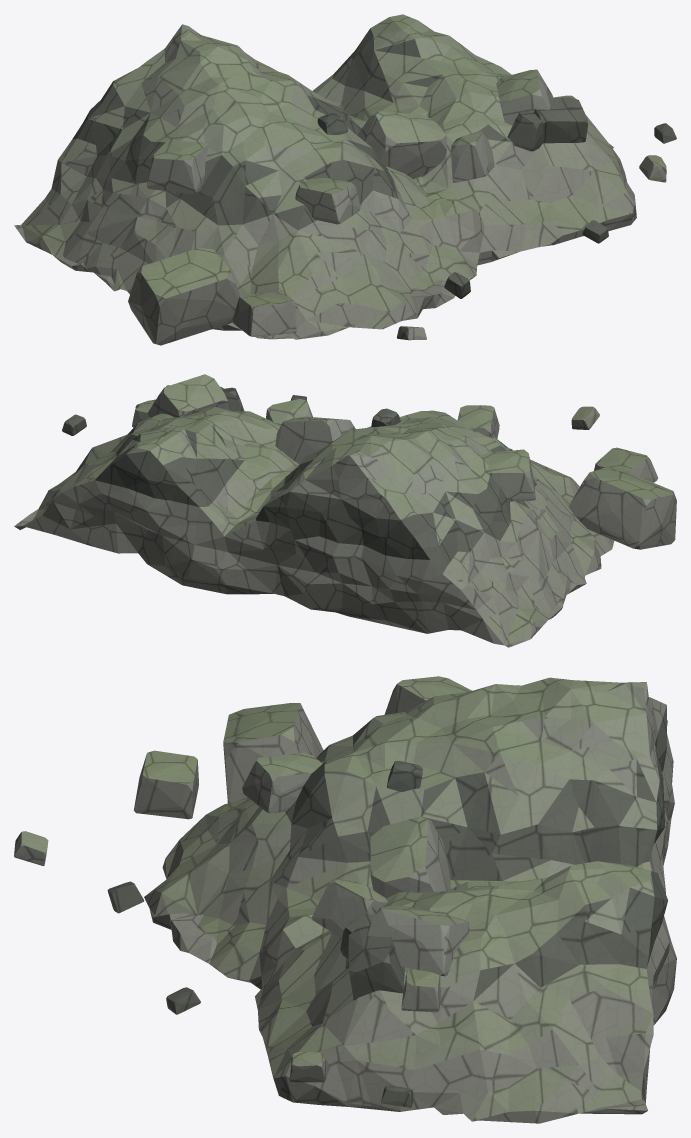
File: scree_a.glb
3 renders of one model, top to bottom at view 1: azimuth 30°, elevation 25°; view 2: azimuth 150°, elevation 25°; view 3: azimuth 270°, elevation 25°, orthographic. The views are drawn at different scales.
Visible parts, largest first — view 1: scree_a.001; view 2: scree_a.001; view 3: scree_a.001.
Boxes of the visible parts, box(x1,y1,x2,y2) form: scree_a.001: box(14, 14, 676, 345); scree_a.001: box(14, 374, 676, 647); scree_a.001: box(14, 676, 676, 1123).
Size of what is drawn, in the model's own units: 9.84 by 2.93 by 7.57.
2 materials, 2 textured.
